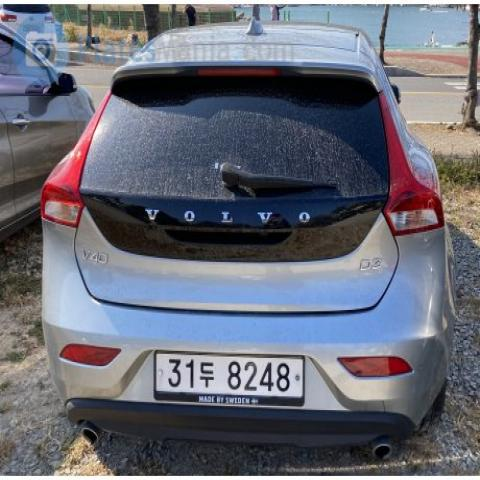LP: (150, 341, 311, 419)
